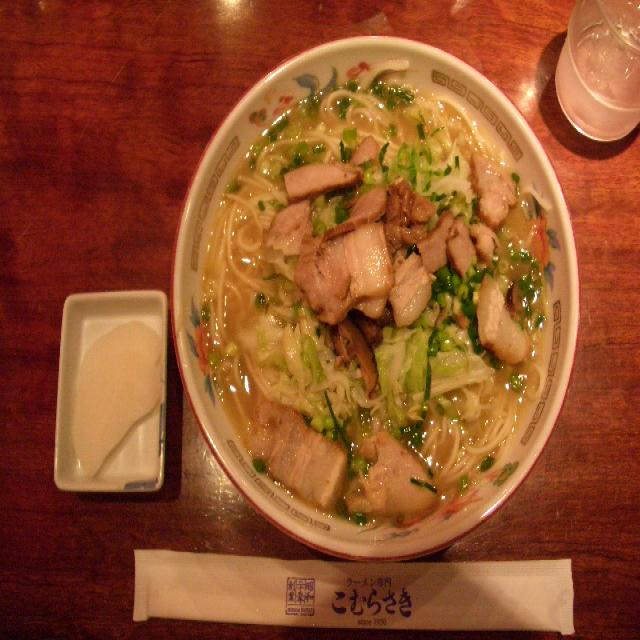面条主食: (152, 62, 428, 556)
